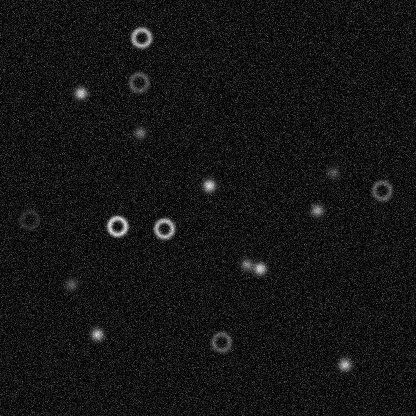Ring: (126, 70, 150, 94), (17, 207, 41, 231), (129, 25, 153, 49), (369, 178, 393, 202), (105, 214, 129, 238), (152, 216, 176, 240), (209, 329, 233, 353)
Spot: (88, 326, 104, 342), (63, 276, 79, 292), (309, 202, 325, 218), (201, 177, 217, 193), (336, 356, 352, 372), (131, 124, 147, 140), (251, 260, 267, 276), (324, 164, 340, 180), (238, 256, 254, 272), (72, 84, 88, 100)
